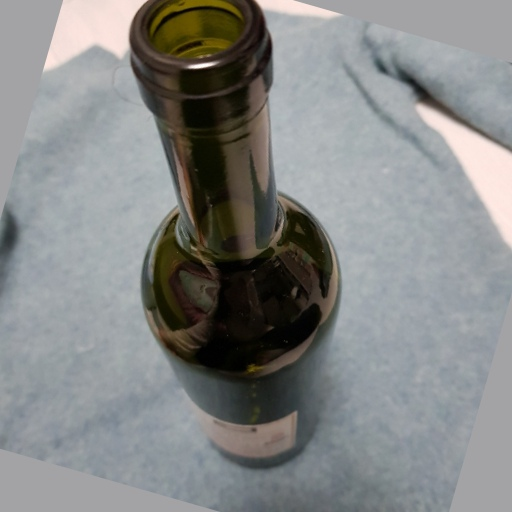Glass_2: (116, 1, 343, 469)
